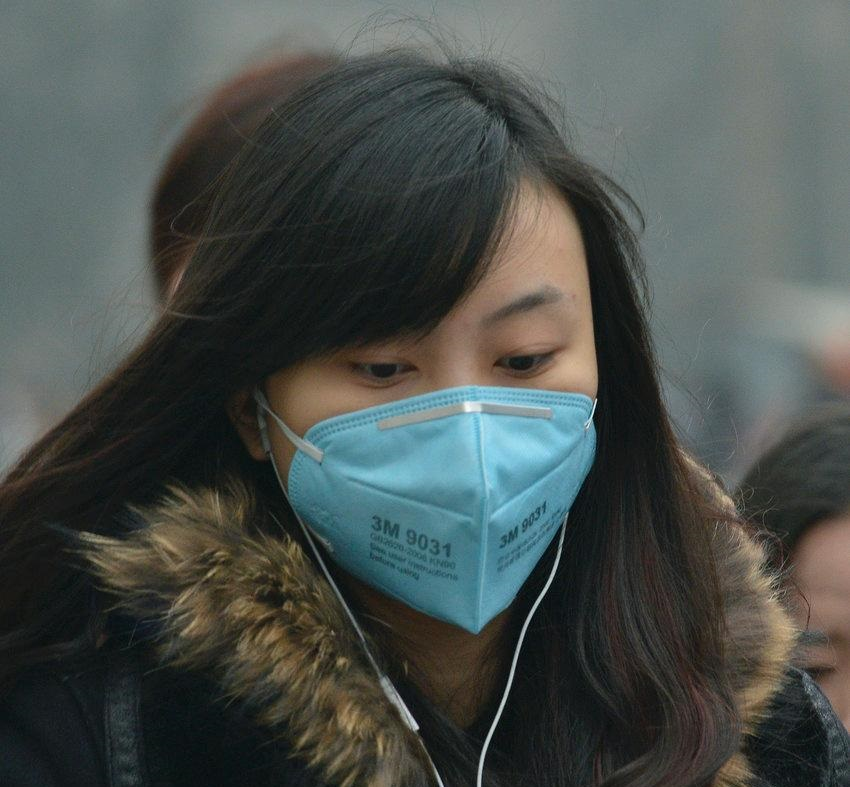face_mask: (279, 190, 595, 635)
